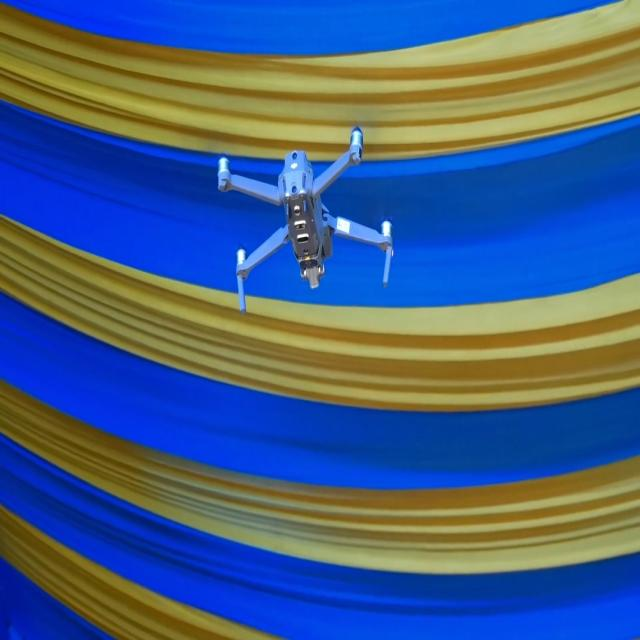Drone: (211, 124, 394, 321)
